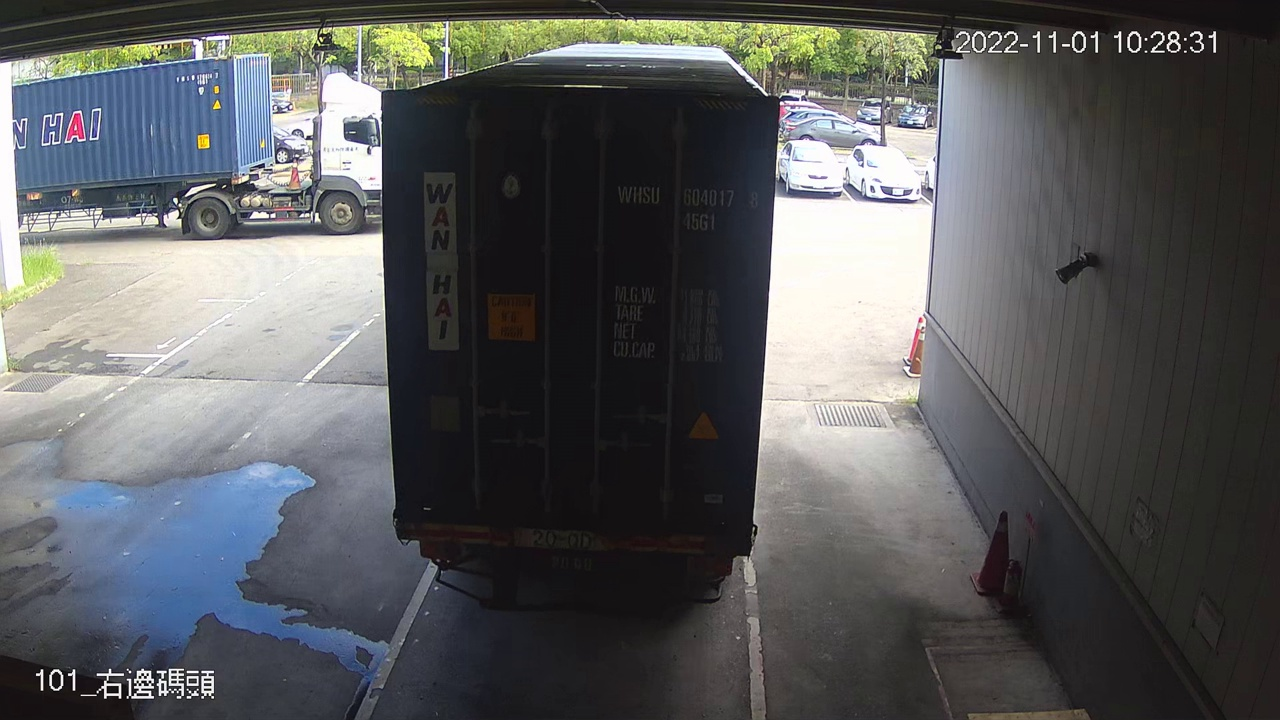container: (611, 171, 766, 238)
